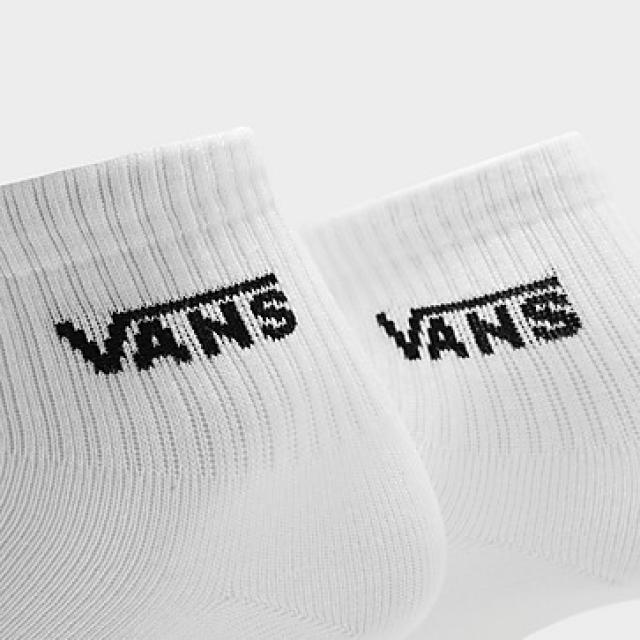sock: (0, 125, 446, 638)
